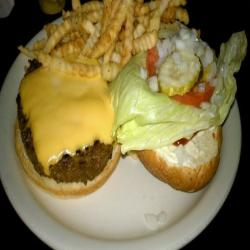burger: (10, 50, 241, 198)
fries: (21, 1, 195, 67)
